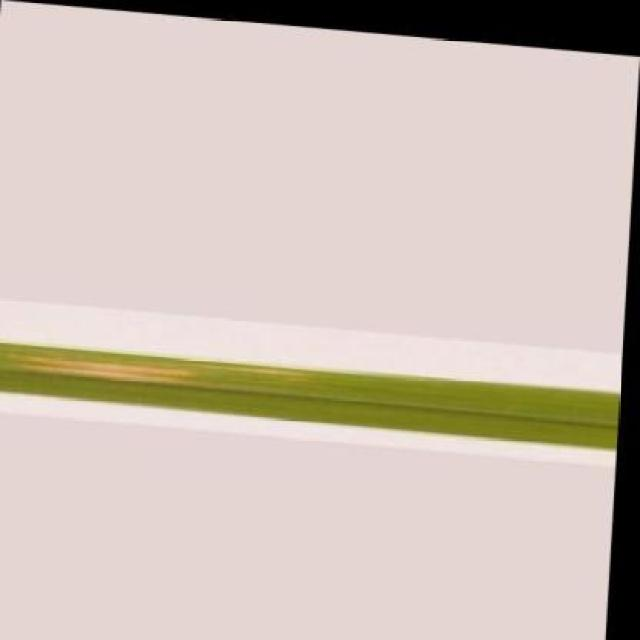Brown_Spot: (0, 334, 625, 444)
